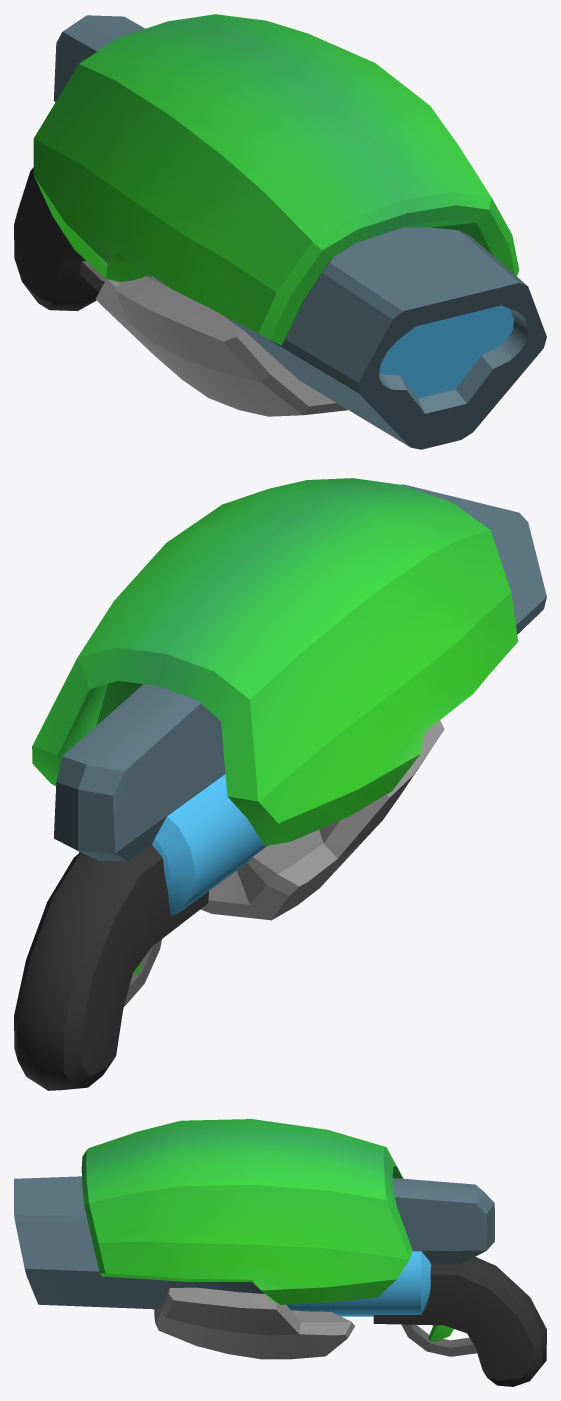
Rendered from 10_StubbyBlasterGun.fbx.
The picture shows the model from 3 angles, top to bottom: view 1: azimuth 30°, elevation 25°; view 2: azimuth 150°, elevation 25°; view 3: azimuth 270°, elevation 25°; orthographic projection. The views are drawn at different scales.
Visible parts, largest first — view 1: Gun_7; view 2: Gun_7; view 3: Gun_7.
Part boxes in pixels (box(x1,y1,x2,y2)): Gun_7: box(14, 14, 546, 449); Gun_7: box(14, 478, 546, 1090); Gun_7: box(14, 1119, 546, 1386).
Bounding box in the file's own units: 34.23 × 41.76 × 80.11.
